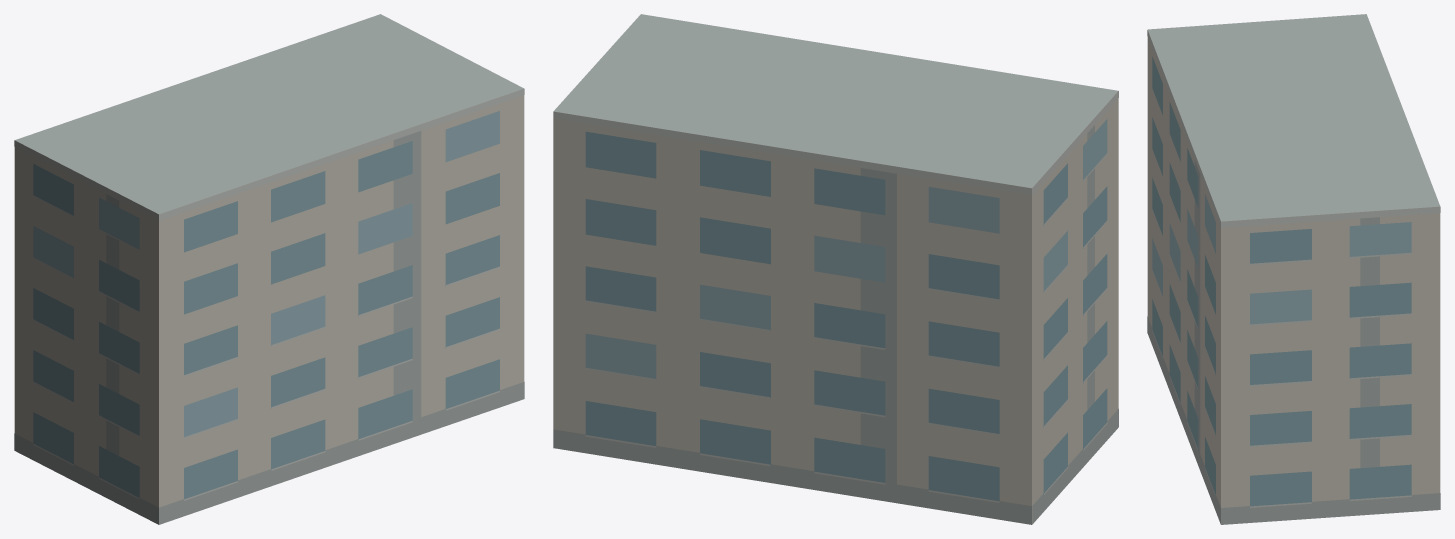
File: survey-upis-32881629.glb
The picture shows the model from 3 angles, left to right: view 1: azimuth 30°, elevation 25°; view 2: azimuth 150°, elevation 25°; view 3: azimuth 270°, elevation 25°; orthographic projection. The views are drawn at different scales.
Parts seen in each view (by area): view 1: survey-upis-32881629.tmp; view 2: survey-upis-32881629.tmp; view 3: survey-upis-32881629.tmp.
Part boxes in pixels (box(x1,y1,x2,y2)): survey-upis-32881629.tmp: box(14, 14, 524, 524); survey-upis-32881629.tmp: box(553, 14, 1118, 524); survey-upis-32881629.tmp: box(1147, 14, 1440, 524).
Size of the model in its own units: 16.87 by 11.49 by 10.07.
